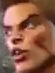kevin: (0, 4, 50, 66)
